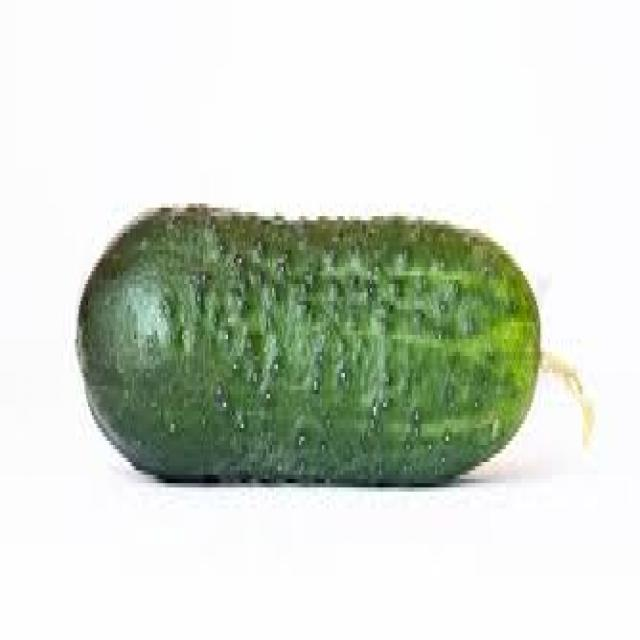Cucumber: (62, 145, 607, 576)
